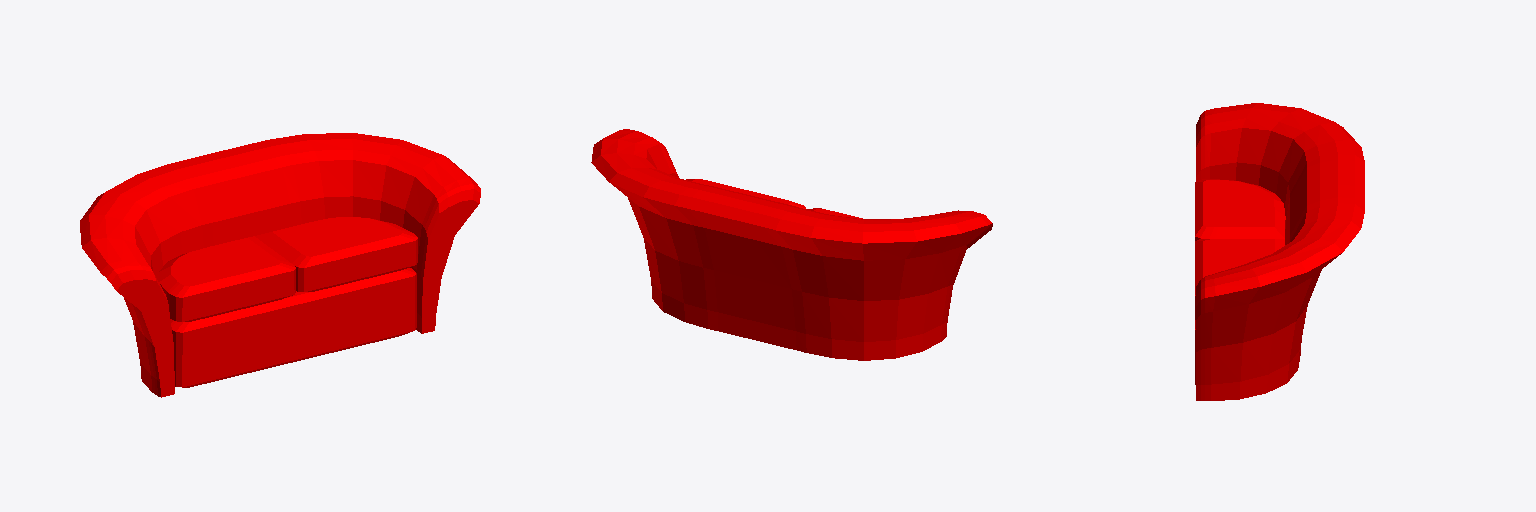
Rendered from couch.obj.
3 views of the same model, side by side, from view 1: azimuth 30°, elevation 25°; view 2: azimuth 150°, elevation 25°; view 3: azimuth 270°, elevation 25° (orthographic).
Parts seen in each view (by area): view 1: couch; view 2: couch; view 3: couch.
Part boxes in pixels (x1,y1,x2,y2): couch: (80,133,480,397); couch: (591,129,992,360); couch: (1195,103,1364,400).
Bounding box in the file's own units: 66.9 × 26.43 × 26.25.